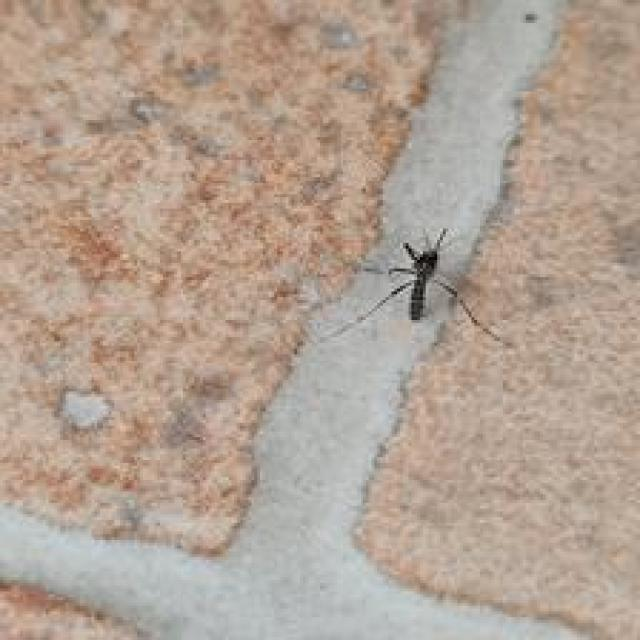Aedes albopictus: (323, 224, 506, 347)
